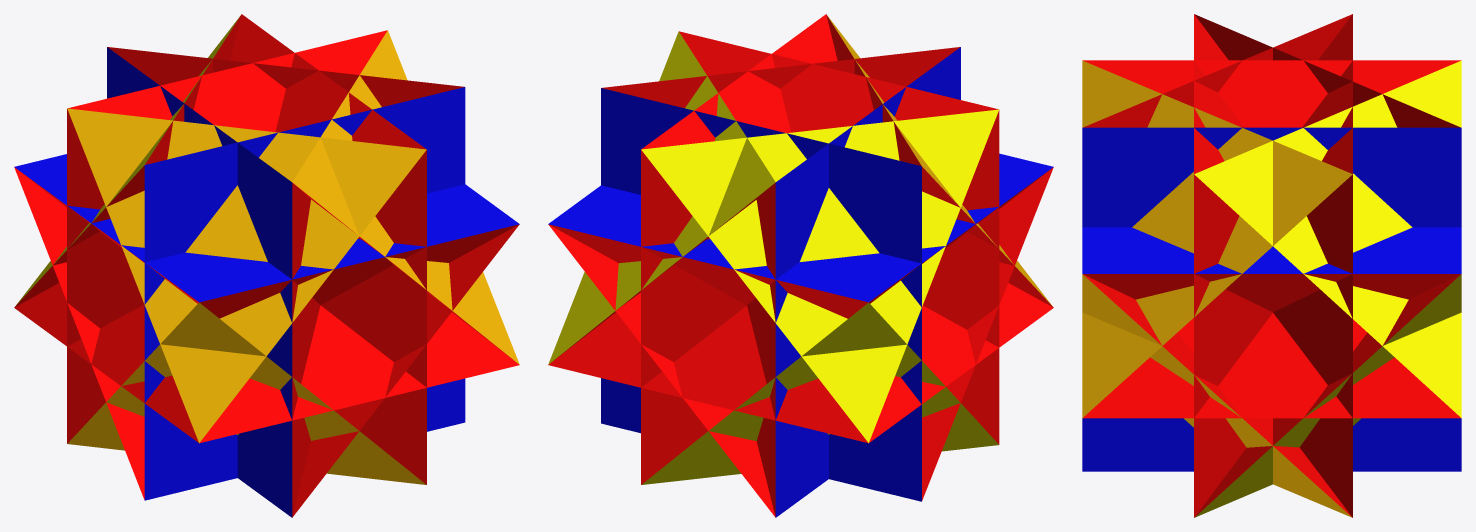
Rendered from uniform_great_rhombicuboctahedron3.dae.
3 views of the same model, side by side, from view 1: azimuth 30°, elevation 25°; view 2: azimuth 150°, elevation 25°; view 3: azimuth 270°, elevation 25° (orthographic). The views are drawn at different scales.
Parts seen in each view (by area): view 1: Model; view 2: Model; view 3: Model.
Part boxes in pixels (x1,y1,x2,y2): Model: [14, 14, 519, 517]; Model: [548, 14, 1053, 517]; Model: [1082, 14, 1461, 517].
Size of the model in its own units: 1 by 1 by 1.
